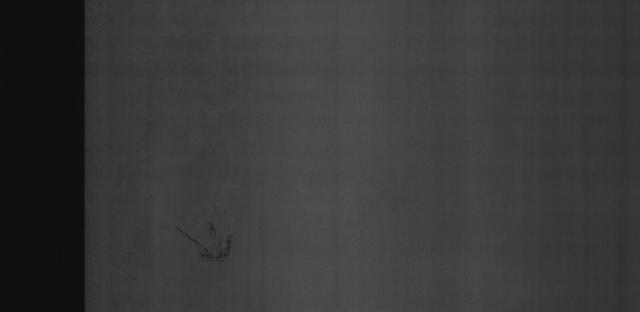water_spot: (180, 200, 242, 270)
